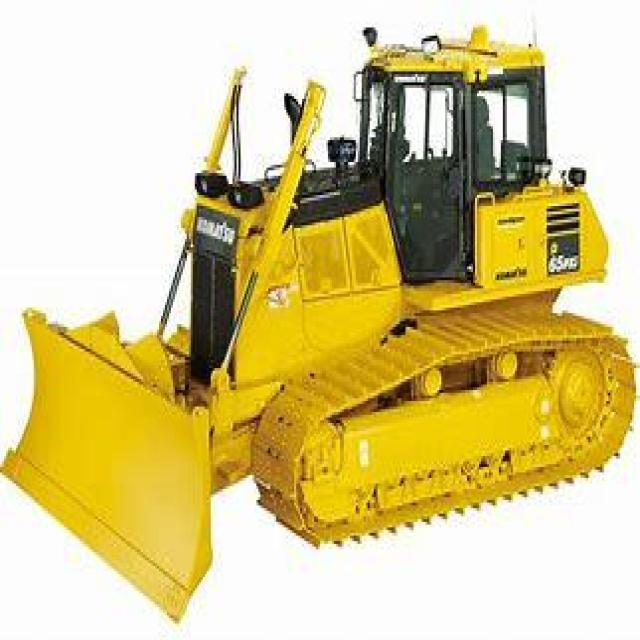buldozerpayloadergrader: (12, 22, 638, 613)
